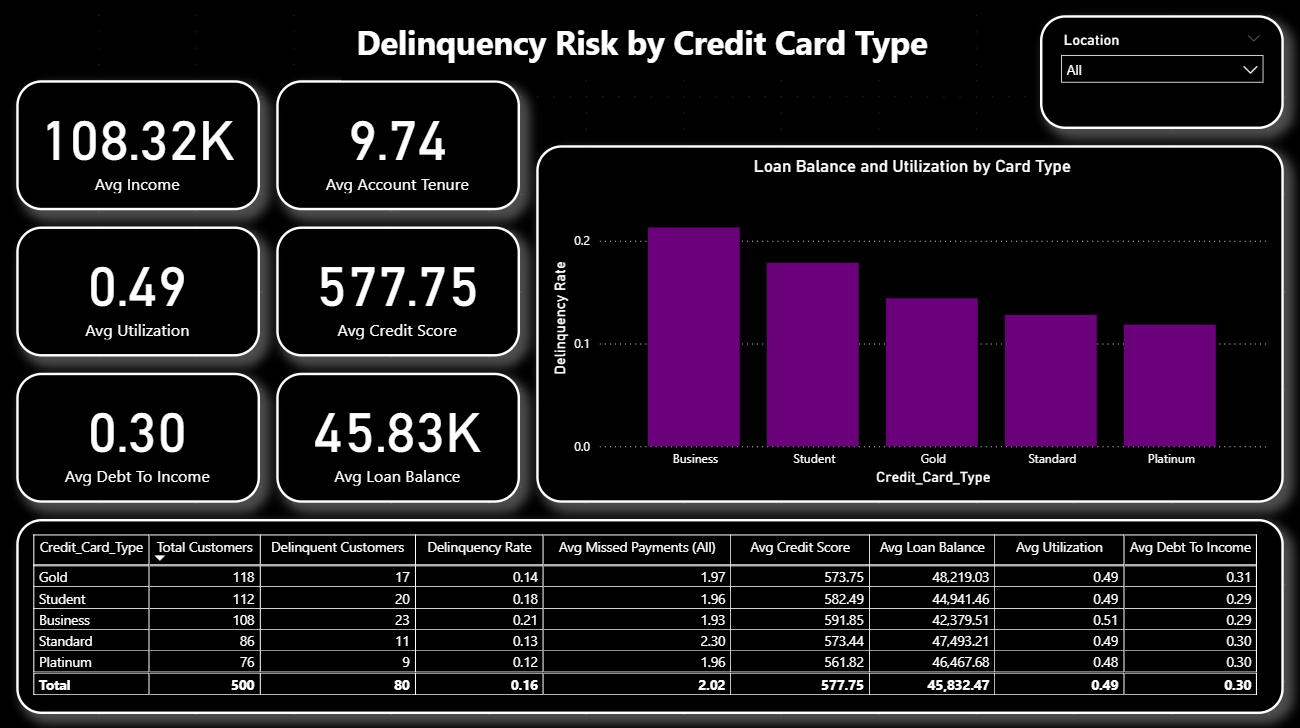

The page's visual inventory and layout, read from the dashboard file:
{"tool":"powerbi","page":{"name":"Card Type vs Risk","canvas":[1280,720],"ordinal":2},"visuals":[{"type":"card","fields":{"Values":["Delinquency.Avg Credit Score"]},"box":[272,224,240,128],"z":0},{"type":"card","fields":{"Values":["Delinquency.Avg Utilization"]},"box":[16,224,240,128],"z":1000},{"type":"card","fields":{"Values":["Delinquency.Avg Loan Balance"]},"box":[272,368,240,128],"z":2000},{"type":"card","fields":{"Values":["Delinquency.Avg Debt To Income"]},"box":[16,368,240,128],"z":3000},{"type":"card","fields":{"Values":["Delinquency.Avg Account Tenure"]},"box":[272,80,240,128],"z":4000},{"type":"card","fields":{"Values":["Delinquency.Avg Income"]},"box":[16,80,240,128],"z":5000},{"type":"slicer","fields":{"Values":["Delinquency.Location"]},"box":[1024,16,240,112],"z":7000},{"type":"clusteredColumnChart","title":"Loan Balance and Utilization by Card Type","fields":{"Category":["Delinquency.Credit_Card_Type"],"Y":["Delinquency.Delinquency Rate"]},"box":[528,144,736,352],"z":8000},{"type":"tableEx","fields":{"Values":["Delinquency.Credit_Card_Type","Delinquency.Total Customers","Delinquency.Delinquent Customers","Delinquency.Delinquency Rate","Delinquency.Avg Missed Payments (All)","Delinquency.Avg Credit Score","Delinquency.Avg Loan Balance","Delinquency.Avg Utilization","Delinquency.Avg Debt To Income"]},"box":[16,512,1248,192],"z":10000},{"type":"textbox","box":[336,16,592,64],"z":10001}]}

Visuals, with their boxes in screenshot pixels (x1, y1, x2, y2), scaled from the page's 1280x720 canvas onto the 1300x728 screenshot:
card - Delinquency.Avg Credit Score: detection(276, 226, 520, 356)
card - Delinquency.Avg Utilization: detection(16, 226, 260, 356)
card - Delinquency.Avg Loan Balance: detection(276, 372, 520, 502)
card - Delinquency.Avg Debt To Income: detection(16, 372, 260, 502)
card - Delinquency.Avg Account Tenure: detection(276, 81, 520, 210)
card - Delinquency.Avg Income: detection(16, 81, 260, 210)
slicer - Delinquency.Location: detection(1040, 16, 1284, 129)
"Loan Balance and Utilization by Card Type" clusteredColumnChart: detection(536, 146, 1284, 502)
tableEx - Delinquency.Credit_Card_Type x Delinquency.Total Customers: detection(16, 518, 1284, 712)
textbox: detection(341, 16, 942, 81)
